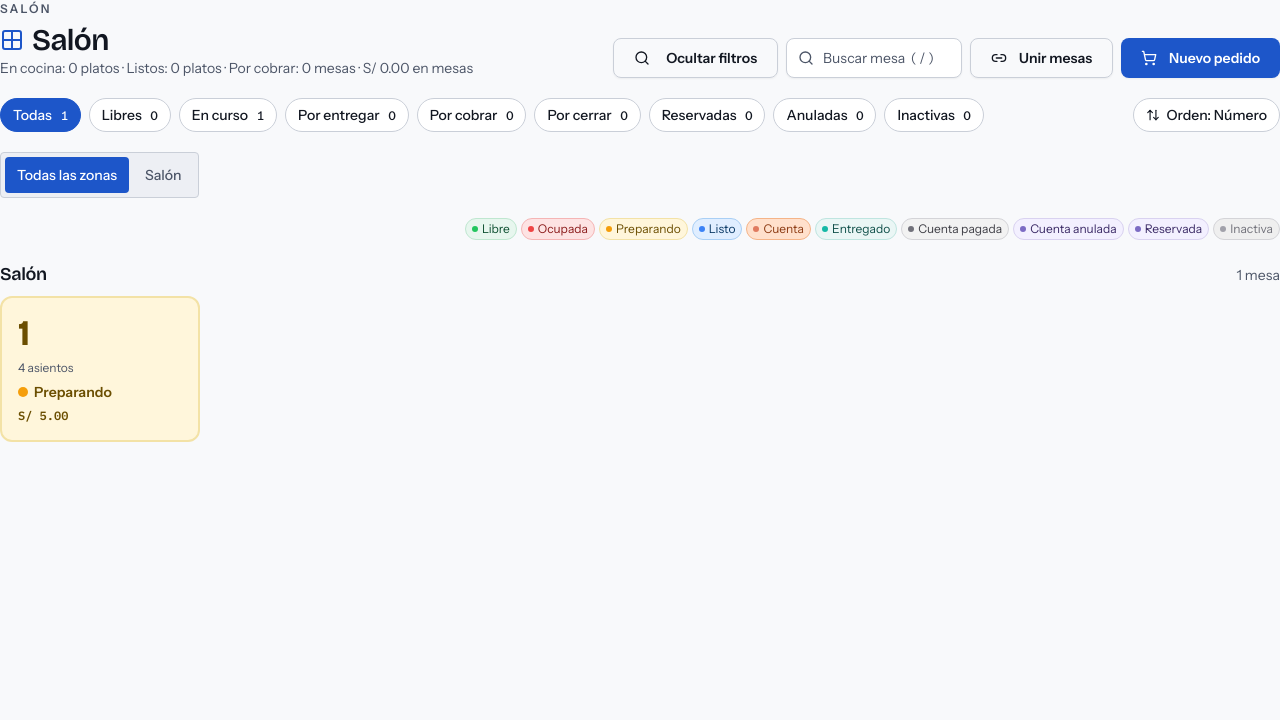
Test: compositor · paridad posView (S8) › keeps the inline draft and review available after failure and allows an explicit retry
Click the element with test id "mesa-card-1" at (100, 369), box 0,296 -> 200,442
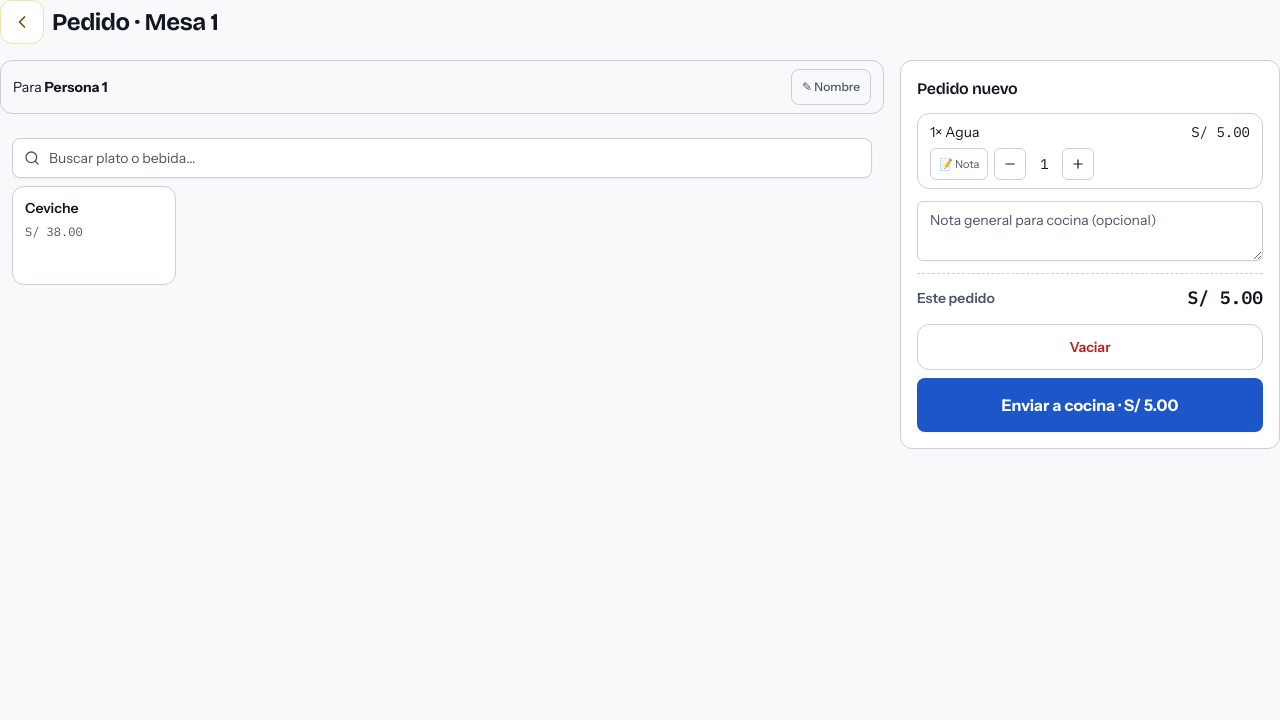
Click the button with test id "mesa-sheet-enviar-cocina" at (1090, 405), box 917,378 -> 1263,432
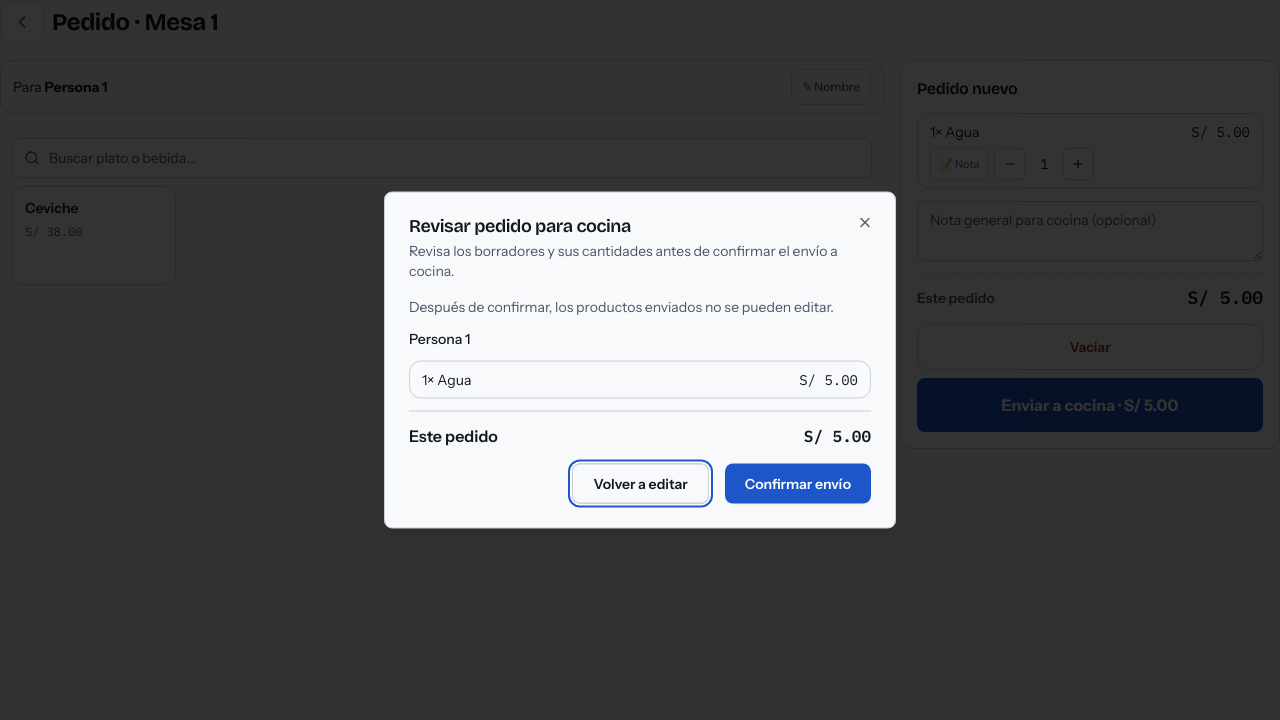
Click the button with test id "mesa-sheet-confirmar-envio" at (798, 484), box 725,464 -> 871,504
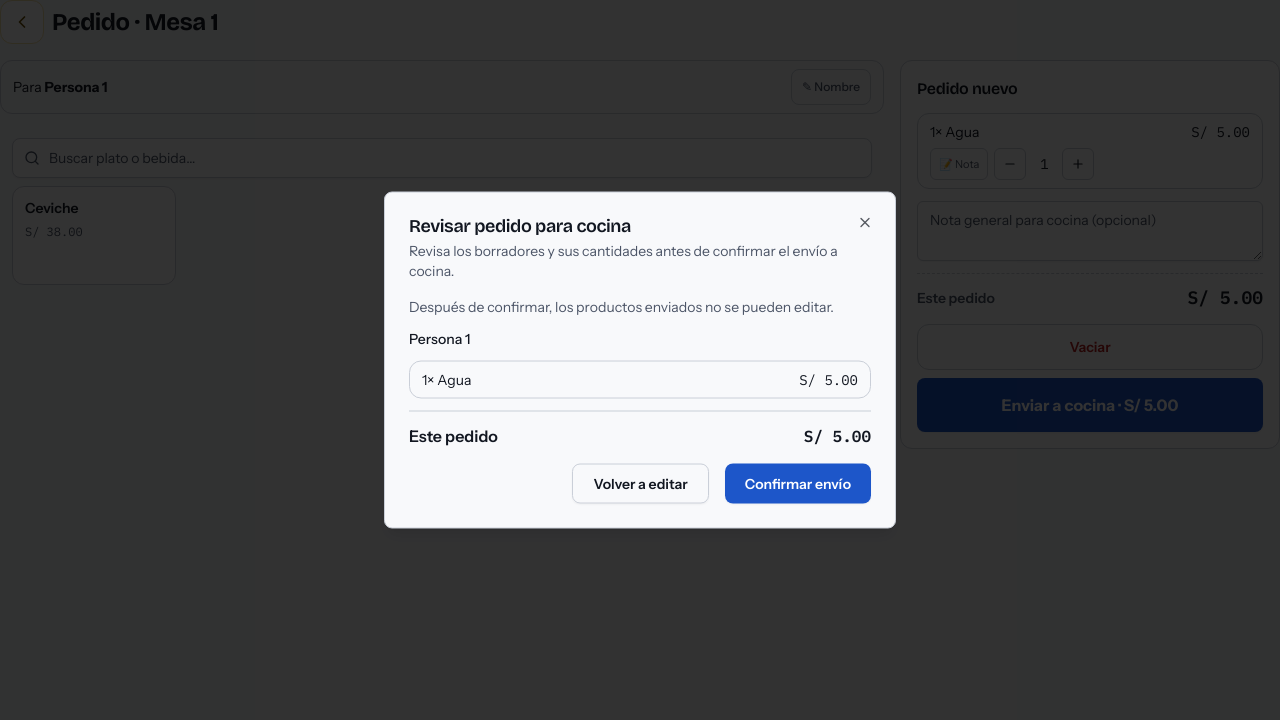
Now the element with test id "mesa-sheet-ticket" is shown, box 900,60 -> 1279,449
Now the element with test id "mesa-sheet-item-draft-1" is shown, box 918,114 -> 1262,188
Now the dialog with test id "mesa-sheet-revision-envio" is shown, box 384,192 -> 896,528
Click the button with test id "mesa-sheet-confirmar-envio" at (798, 484), box 725,464 -> 871,504
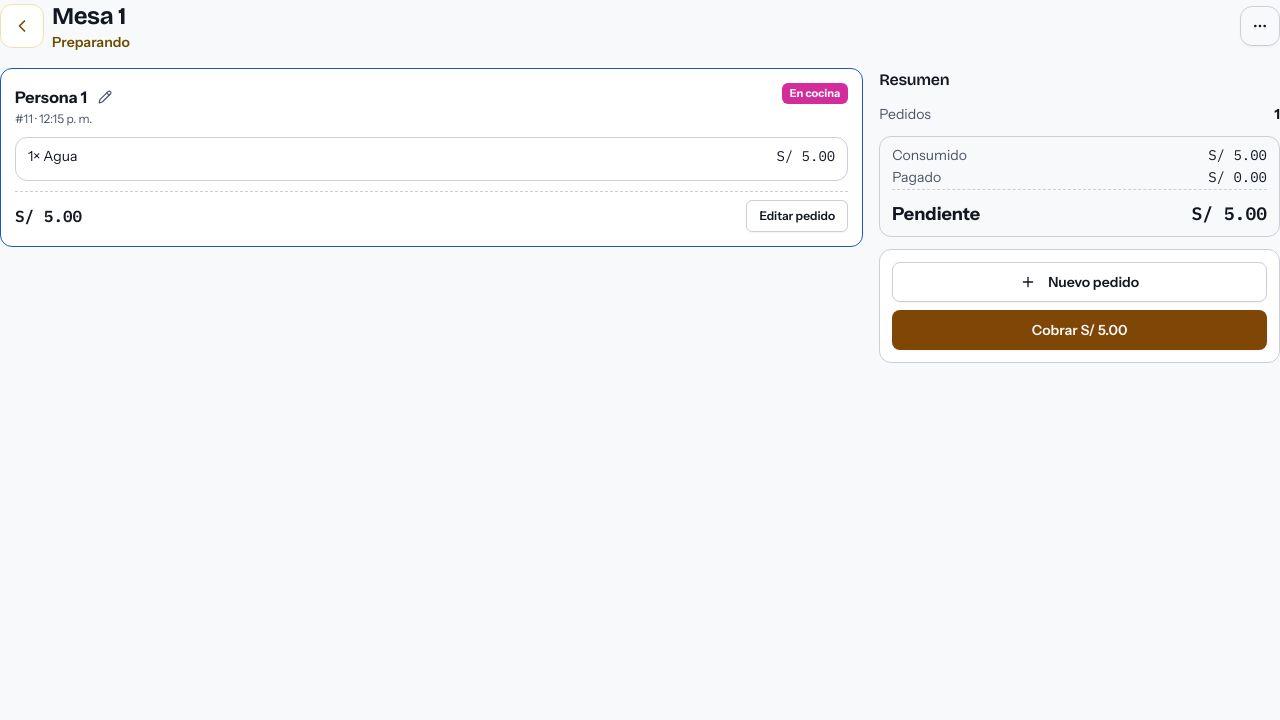
Now the dialog with test id "mesa-sheet-revision-envio" is gone
Now the element with test id "mesa-sheet-ticket" is gone
